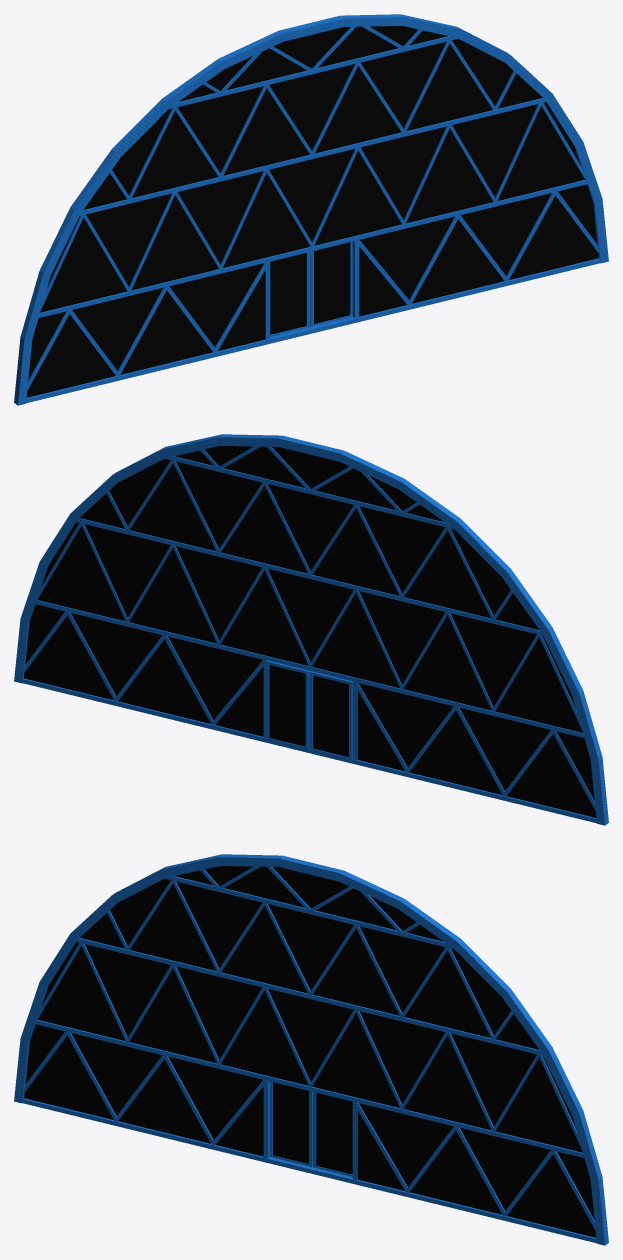
Rendered from space_hangar_entrance.fbx.
3 views of the same model, one above another, from view 1: azimuth 30°, elevation 25°; view 2: azimuth 150°, elevation 25°; view 3: azimuth 330°, elevation 25° (orthographic).
Visible parts, largest first — view 1: Cloner_3, Cube_129, Cube_131; view 2: Cloner_3, Cube_129, Cube_131; view 3: Cloner_3, Cube_131, Cube_129.
Boxes of the visible parts, x1,y1,x2,y2 form: Cloner_3: (14,14,608,405); Cube_129: (310,241,352,326); Cube_131: (270,252,309,336); Cloner_3: (14,434,608,825); Cube_129: (266,660,309,750); Cube_131: (309,671,352,760); Cloner_3: (14,854,608,1245); Cube_131: (270,1081,312,1166); Cube_129: (313,1092,352,1176).
Bounding box in the file's own units: 1973 × 981 × 26.24.
